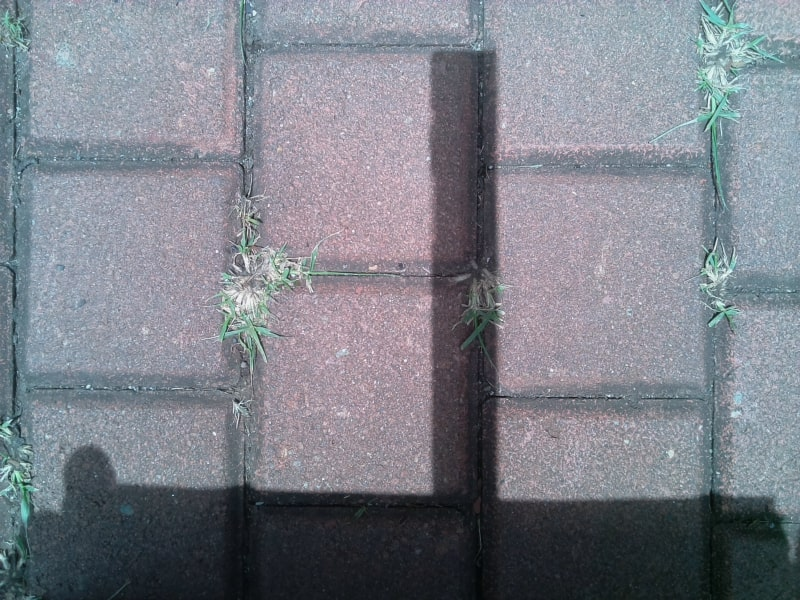Weed: (217, 271, 278, 360), (459, 260, 508, 353), (701, 64, 741, 153), (1, 417, 40, 508), (256, 250, 332, 293), (694, 1, 751, 57), (1, 543, 40, 600), (702, 246, 737, 294), (729, 39, 781, 71), (231, 190, 267, 236), (1, 10, 33, 50), (709, 298, 740, 334), (230, 398, 256, 429), (353, 501, 376, 523)
